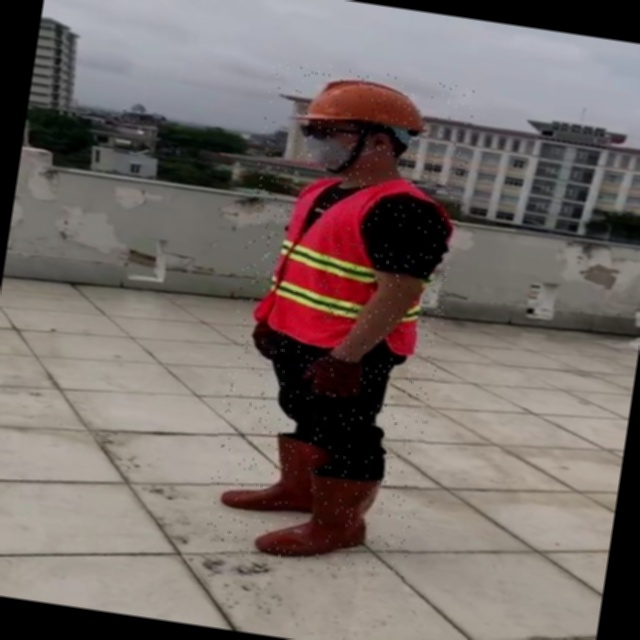boots: (292, 473, 404, 560), (245, 440, 352, 517)
gloves: (302, 350, 373, 398)
helmet: (264, 76, 401, 126)
vest: (256, 172, 430, 347)
